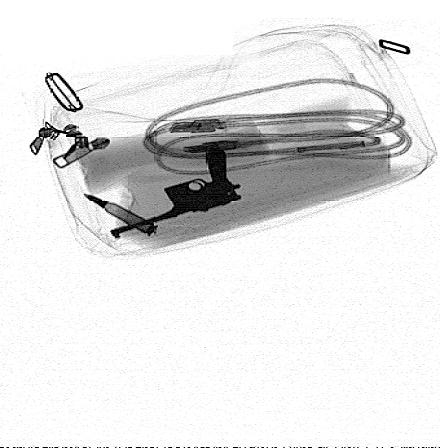Bullet: (85, 194, 158, 234)
Gun: (112, 147, 241, 237)
